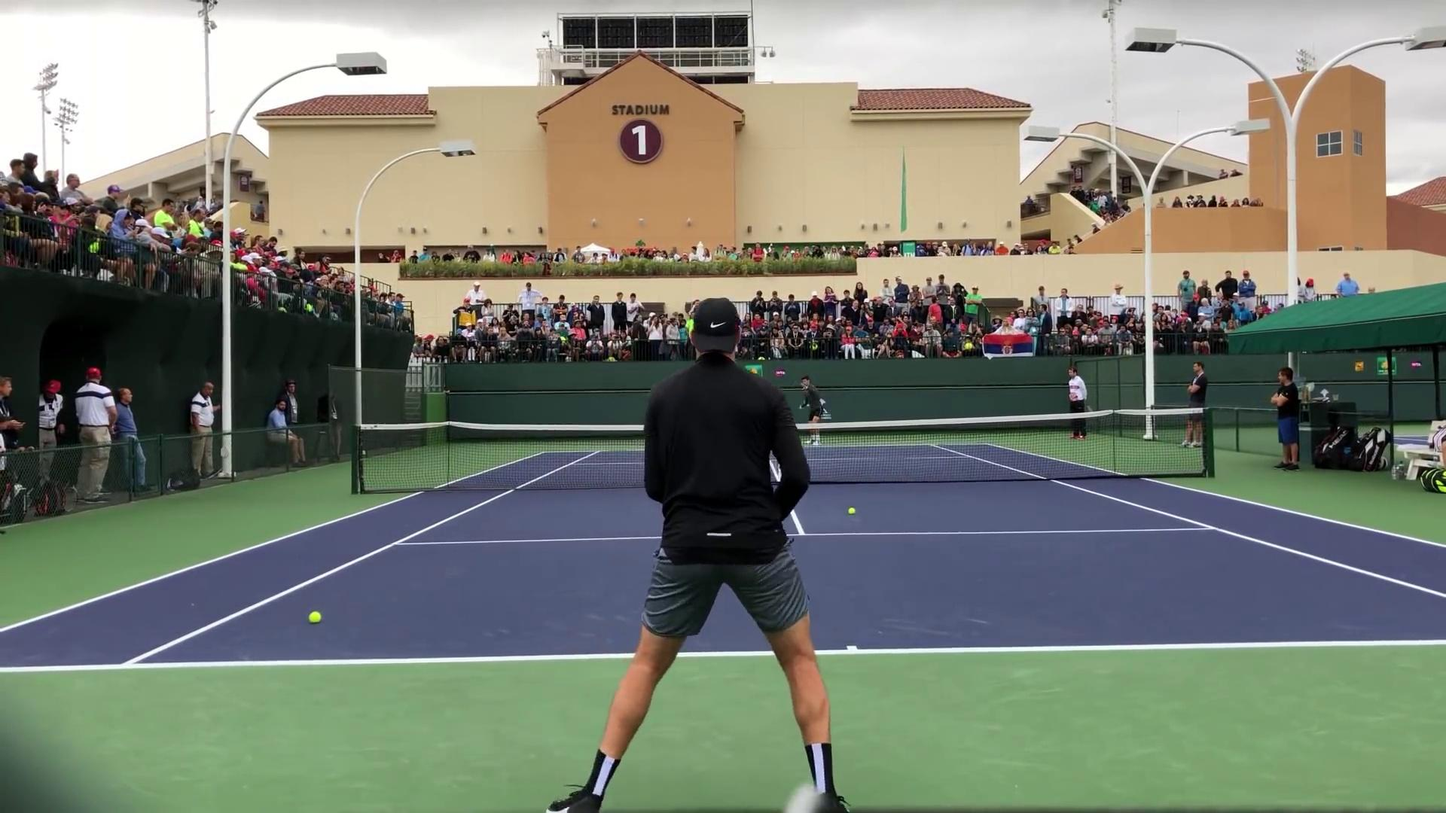ball: (308, 611, 321, 624), (847, 507, 856, 515)
